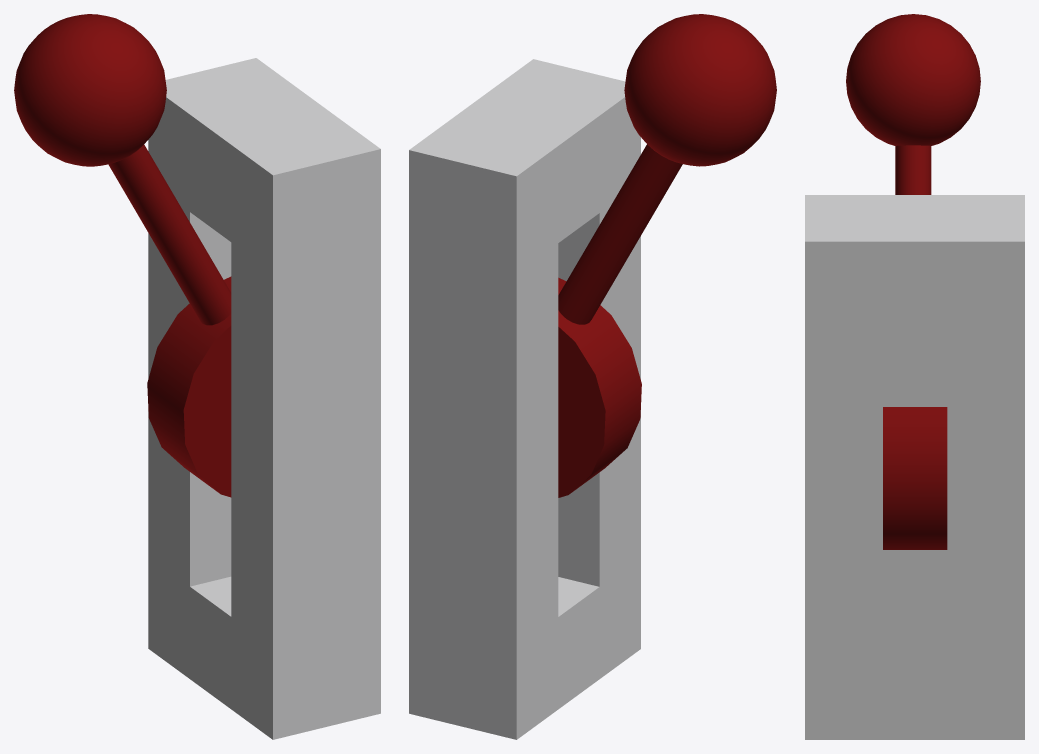
File: LEVER.fbx
3 views of the same model, side by side, from view 1: azimuth 30°, elevation 25°; view 2: azimuth 150°, elevation 25°; view 3: azimuth 270°, elevation 25° (orthographic). The views are drawn at different scales.
Parts seen in each view (by area): view 1: Box001, Cylinder001; view 2: Box001, Cylinder001; view 3: Box001, Cylinder001.
Part boxes in pixels (x1,y1,x2,y2): Box001: (148,58,380,739); Cylinder001: (14,14,231,497); Box001: (409,59,640,739); Cylinder001: (558,14,776,497); Box001: (805,195,1024,739); Cylinder001: (846,14,980,549).
Size of the model in its own units: 20.31 by 40.85 by 13.12.
